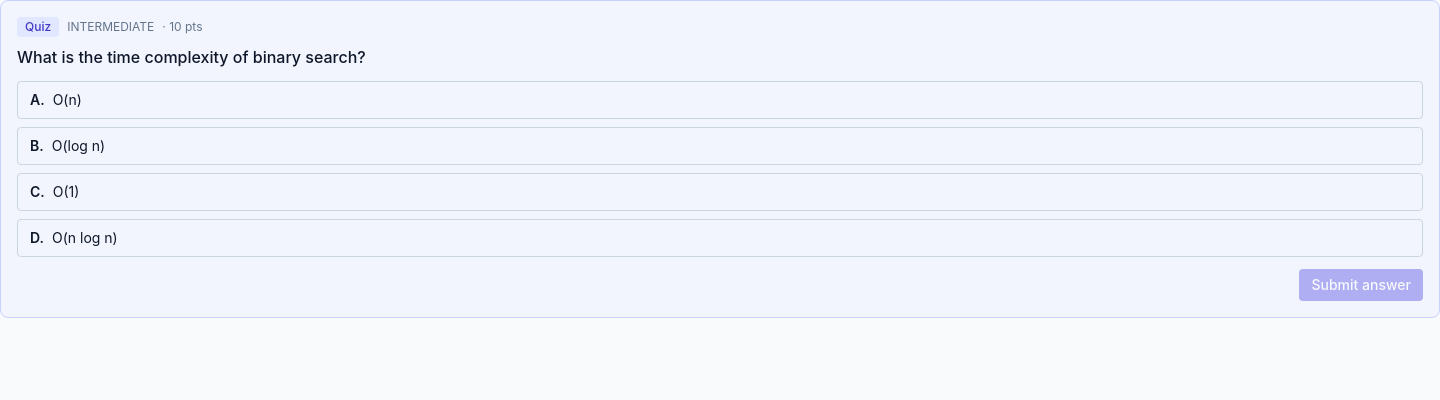
submitting an answer › shows the hint only when the answer was wrong
Click the button "A.O(n)": (35, 100) [17,81,1423,119]
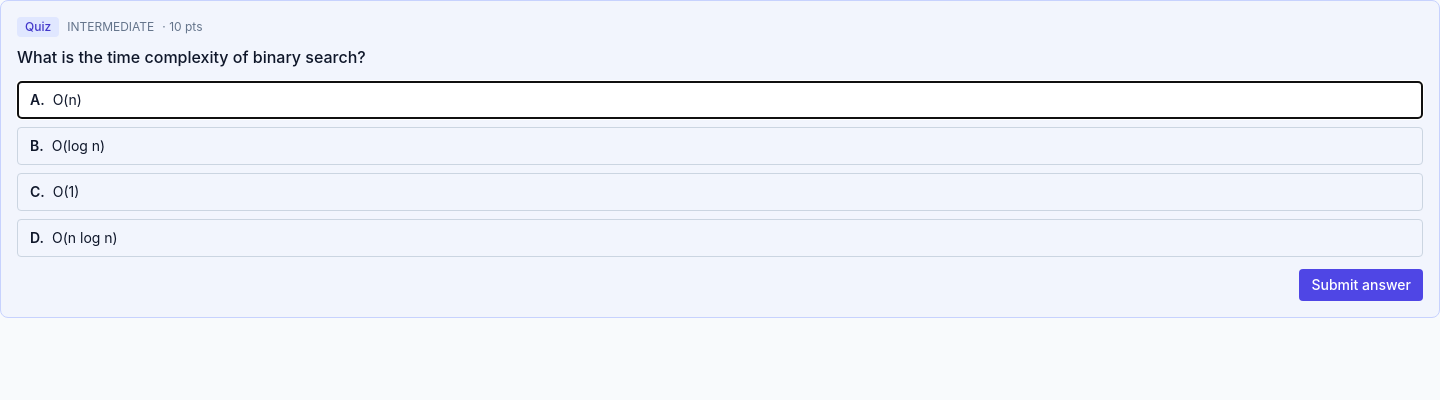
Click the button "Submit answer": (1361, 285) [1300,269,1423,301]
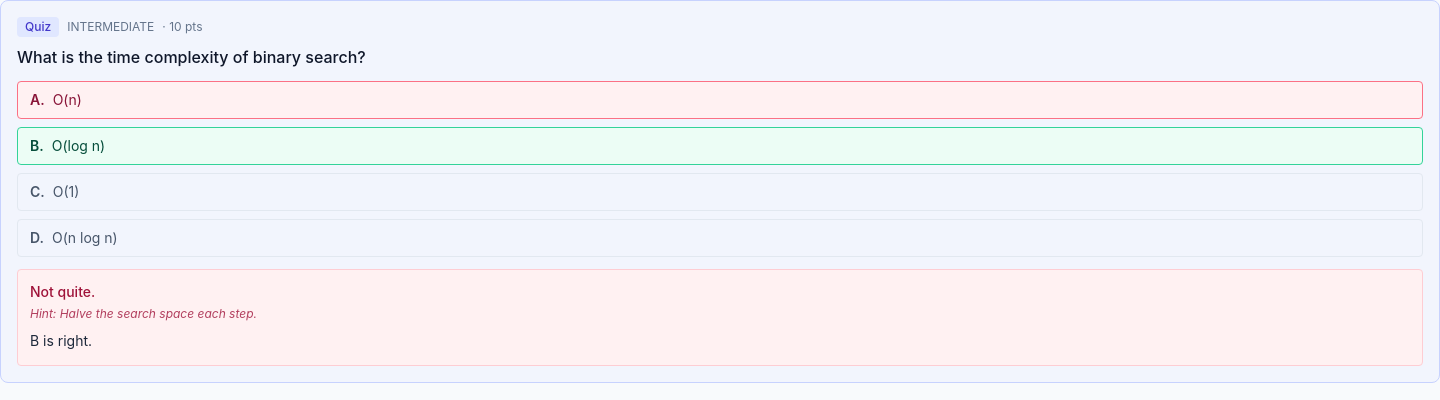
Now the text "Not quite." is shown, box [30,283,95,300]
Now the text "Hint: Halve the search space each step." is shown, box [30,306,257,321]
